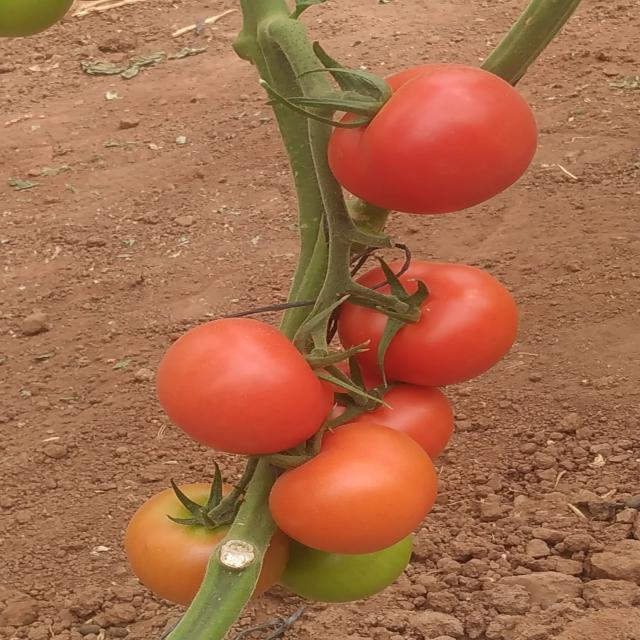Ripe Tomato: (329, 63, 539, 222), (157, 318, 340, 450), (338, 252, 520, 380), (284, 426, 438, 537), (128, 478, 274, 588), (357, 383, 465, 441)
Unripe Tomato: (278, 541, 409, 595), (0, 0, 72, 36)
